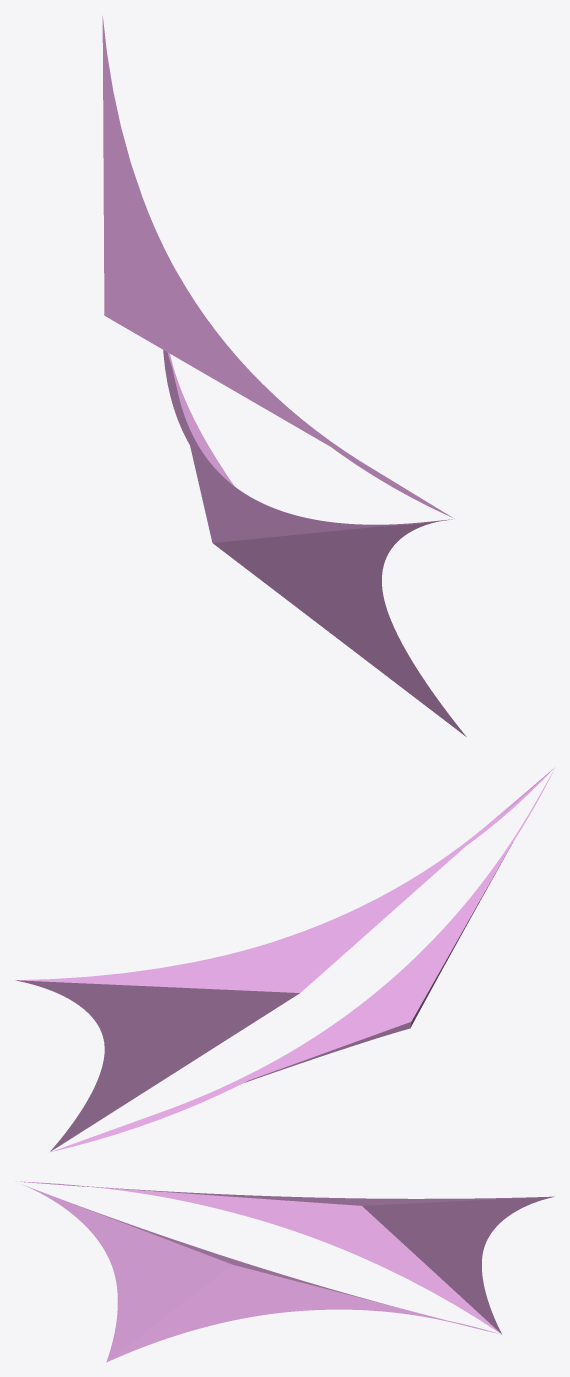
Rendered from TYPE2-2.glb.
3 renders of one model, top to bottom at view 1: azimuth 30°, elevation 25°; view 2: azimuth 150°, elevation 25°; view 3: azimuth 270°, elevation 25°, orthographic. The views are drawn at different scales.
Parts seen in each view (by area): view 1: TYPE2-2 (×4); view 2: TYPE2-2 (×4); view 3: TYPE2-2 (×6).
Part boxes in pixels (<box>): TYPE2-2 (×4): <box>102,16,466,736</box>; TYPE2-2 (×4): <box>15,767,554,1151</box>; TYPE2-2 (×6): <box>16,1181,554,1362</box>.
Size of the model in its own units: 2.54 by 4.13 by 10.85.
